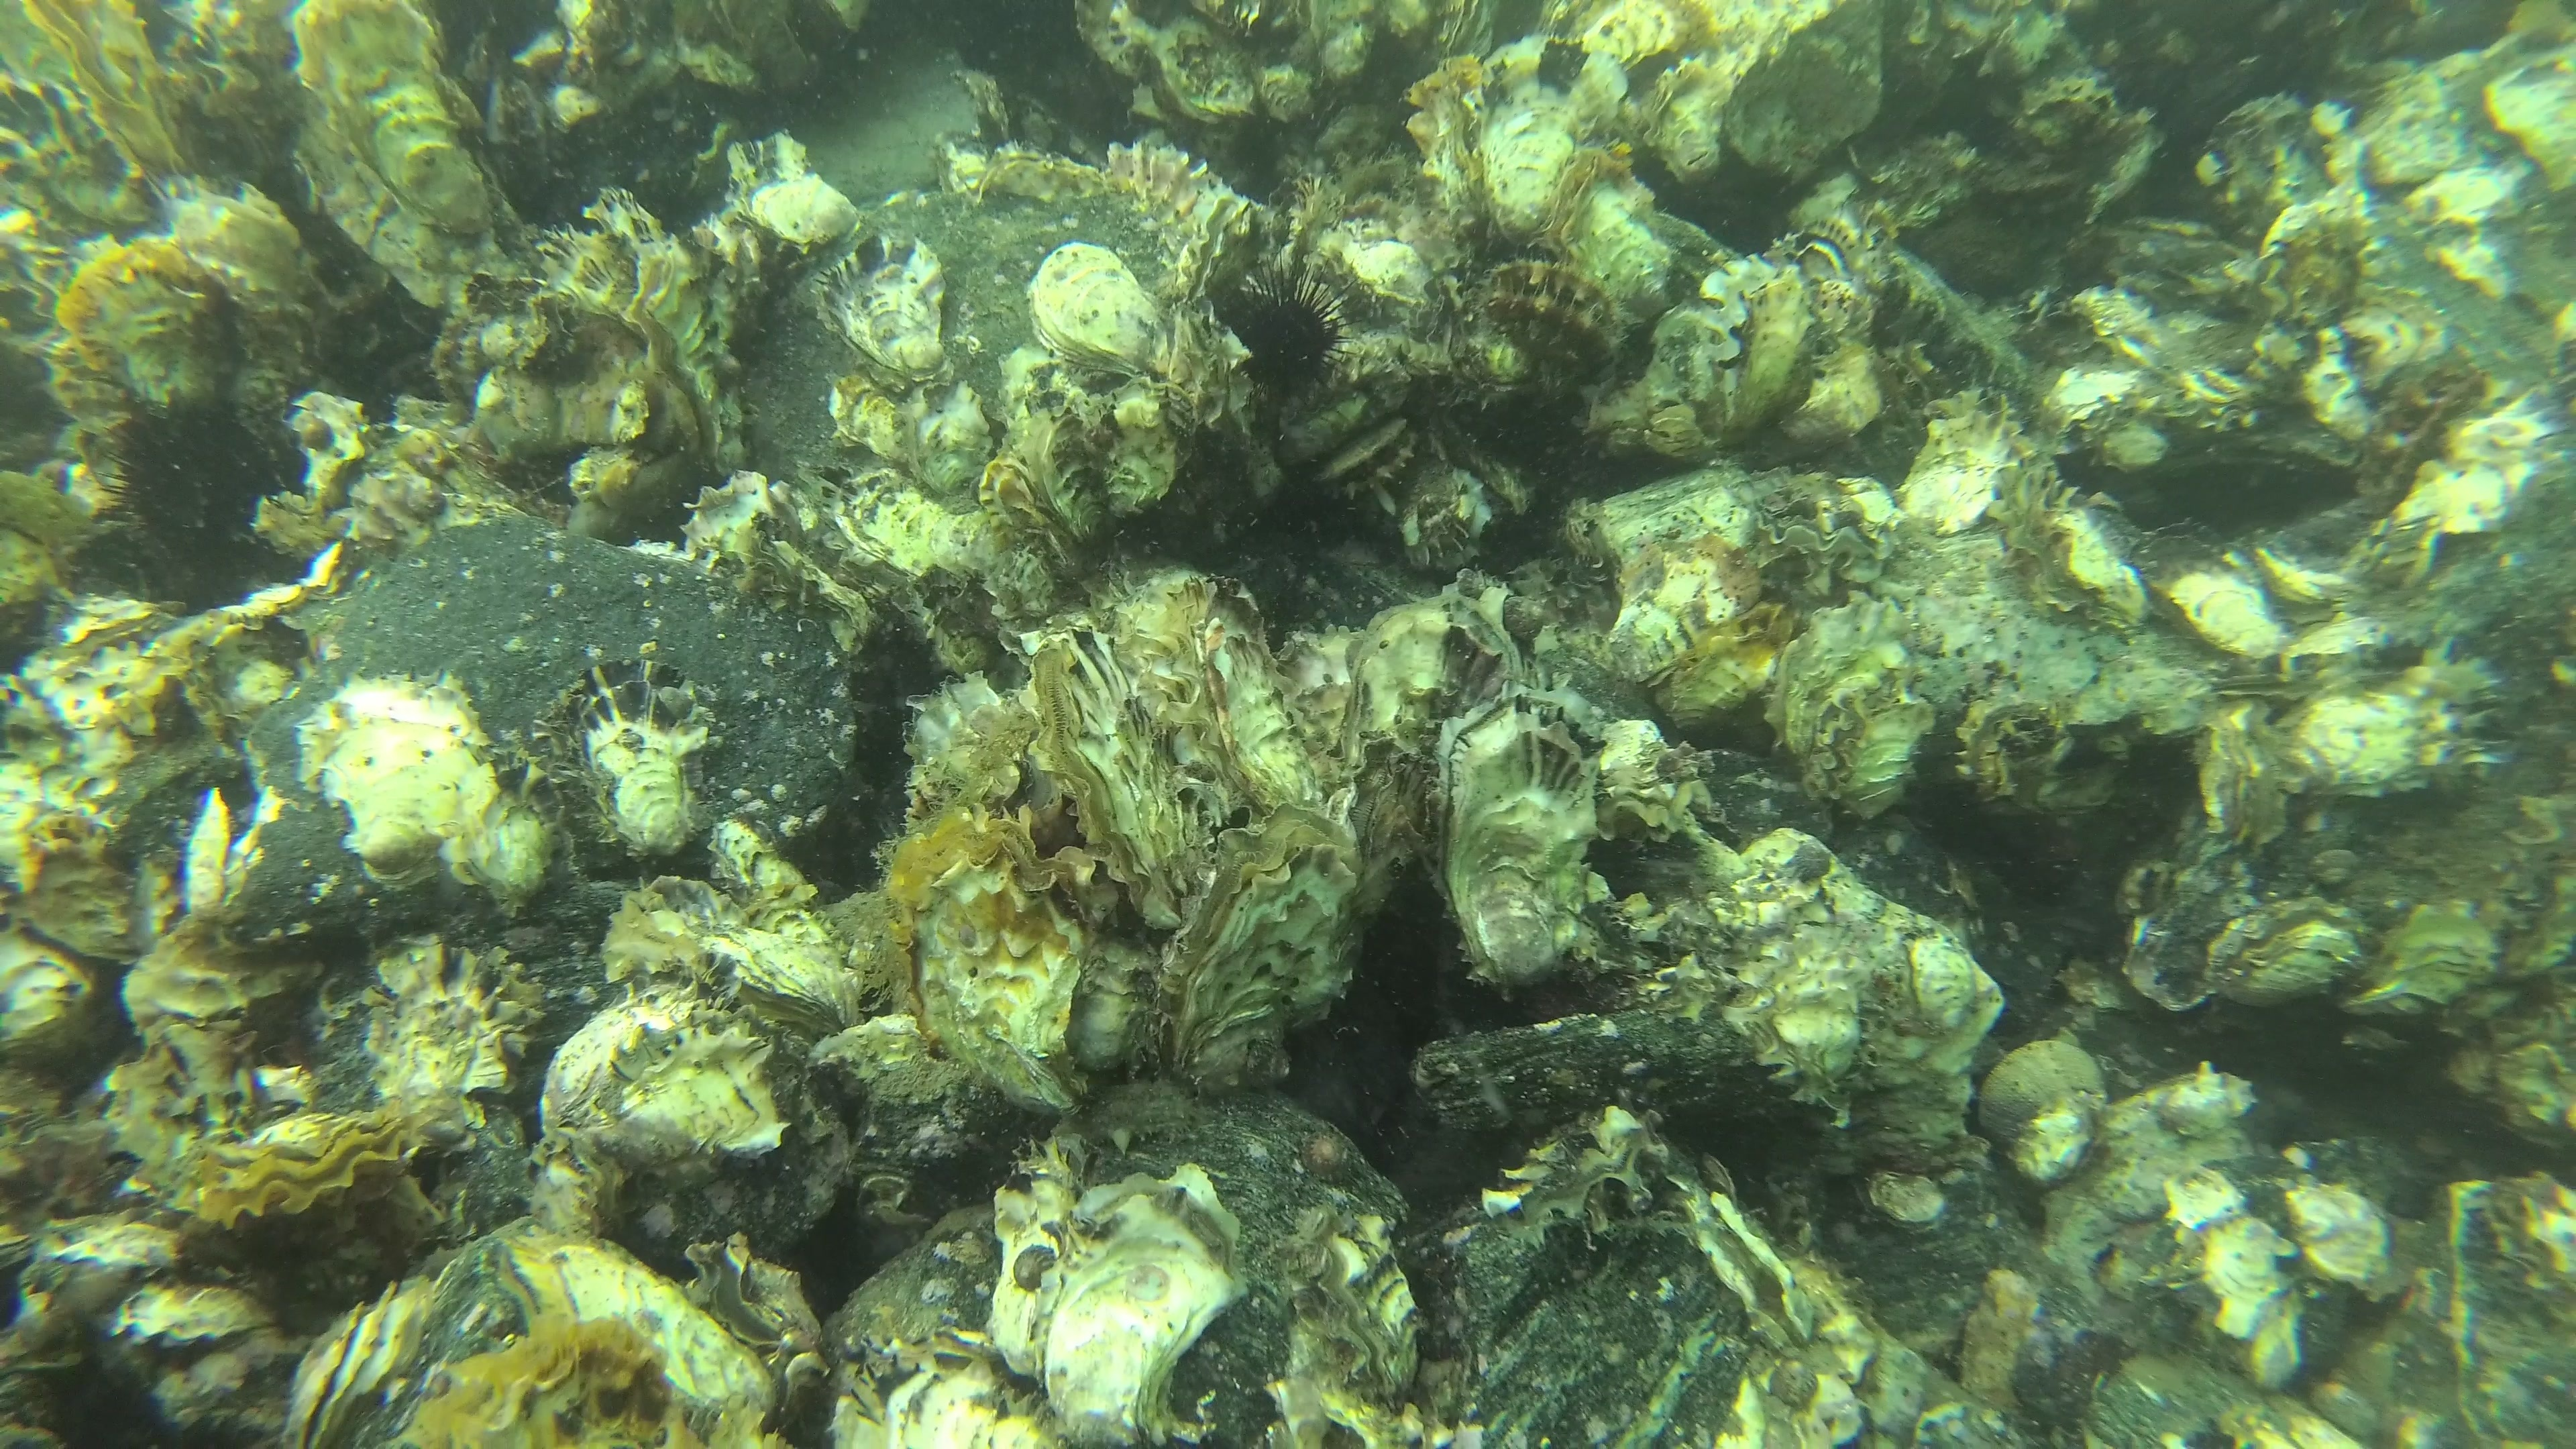echinus: (88, 410, 242, 566), (1212, 255, 1357, 410)
